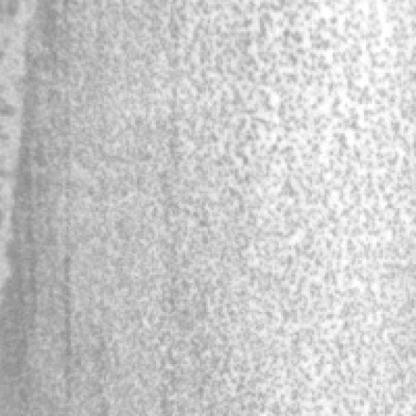pitted_surface: (16, 0, 412, 412)
